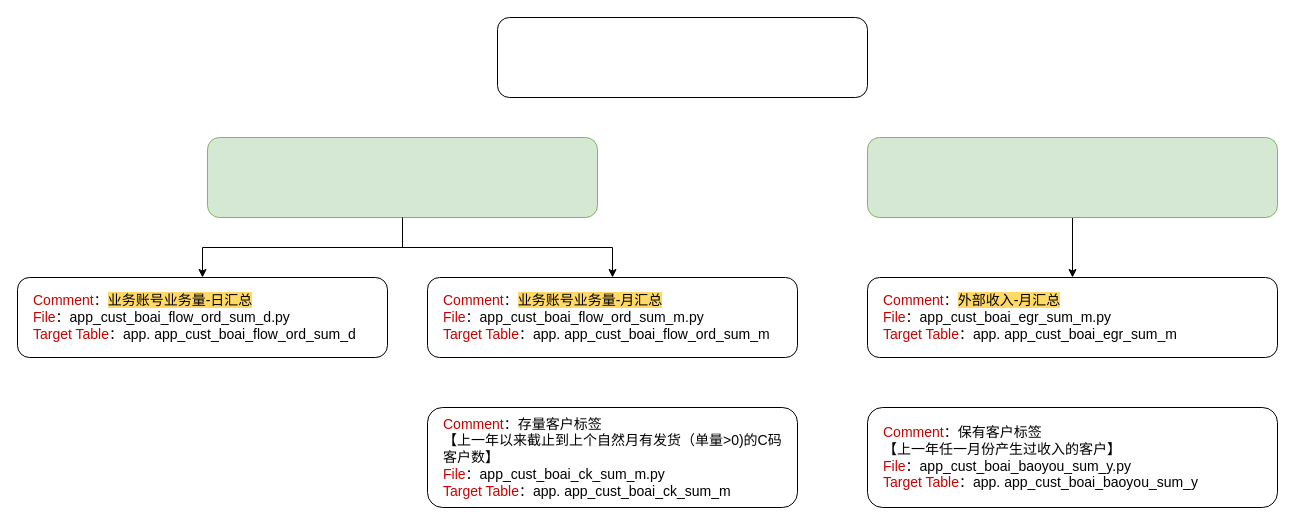
Some shapes in this 1295 by 525 pixel diagram are drawn without their labels. Here are the shapes that lost their labels. From the top down, the box of each, then its label:
(496, 16, 868, 98): Comment ： File ： Target Table ：
(206, 136, 598, 218): Comment： 物流经分-整体业务量-商家维度-日表 Table Name： app. app_ea_del_flow_stat_sum_vender_d
(866, 136, 1278, 218): Comment： 物流经分-外部收入-商家维度含新产品标 Table Name： app. app_ea_egr_vendor_prodcode_sum_m
